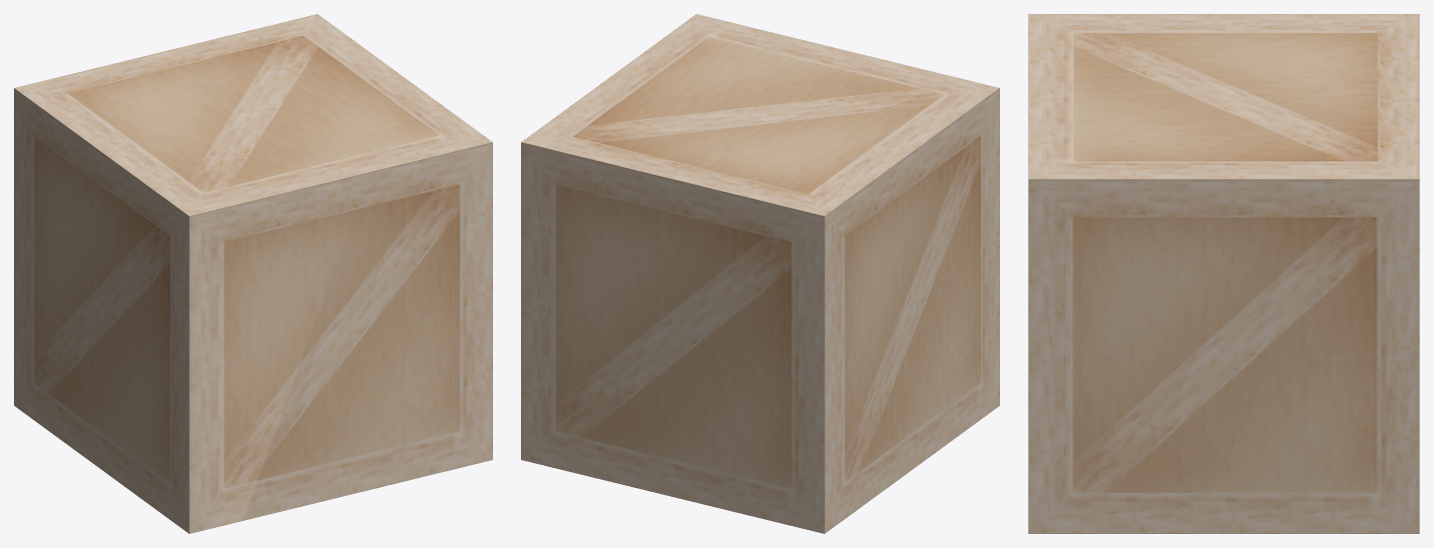
File: Wood_box.FBX
The picture shows the model from 3 angles, left to right: view 1: azimuth 30°, elevation 25°; view 2: azimuth 150°, elevation 25°; view 3: azimuth 270°, elevation 25°; orthographic projection. The views are drawn at different scales.
Visible parts, largest first — view 1: Box027, Object004, Object003; view 2: Box027, Object003, Object004; view 3: Box027, Object004, Object003.
Part boxes in pixels (x1=…): Box027: x1=14, y1=14, x2=405, y2=533; Object004: x1=243, y1=78, x2=492, y2=520; Object003: x1=14, y1=14, x2=317, y2=255; Box027: x1=521, y1=44, x2=999, y2=533; Object003: x1=521, y1=124, x2=903, y2=459; Object004: x1=609, y1=14, x2=818, y2=77; Box027: x1=1028, y1=14, x2=1419, y2=533; Object004: x1=1028, y1=112, x2=1308, y2=533; Object003: x1=1243, y1=14, x2=1419, y2=533.
Bounding box in the file's own units: 67.36 × 67.36 × 67.36.
